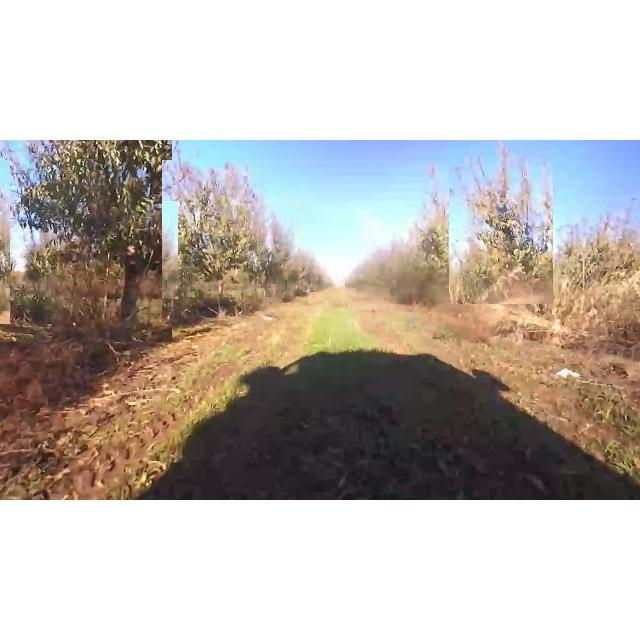direk: (0, 140, 172, 342), (449, 144, 553, 304), (162, 160, 262, 324), (416, 182, 464, 298), (246, 201, 298, 299)
